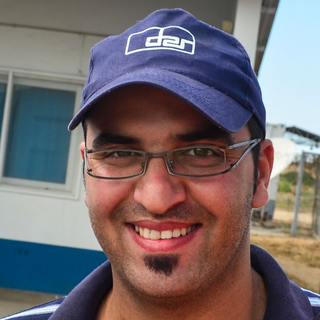eye: (99, 144, 145, 166), (176, 144, 224, 163)
